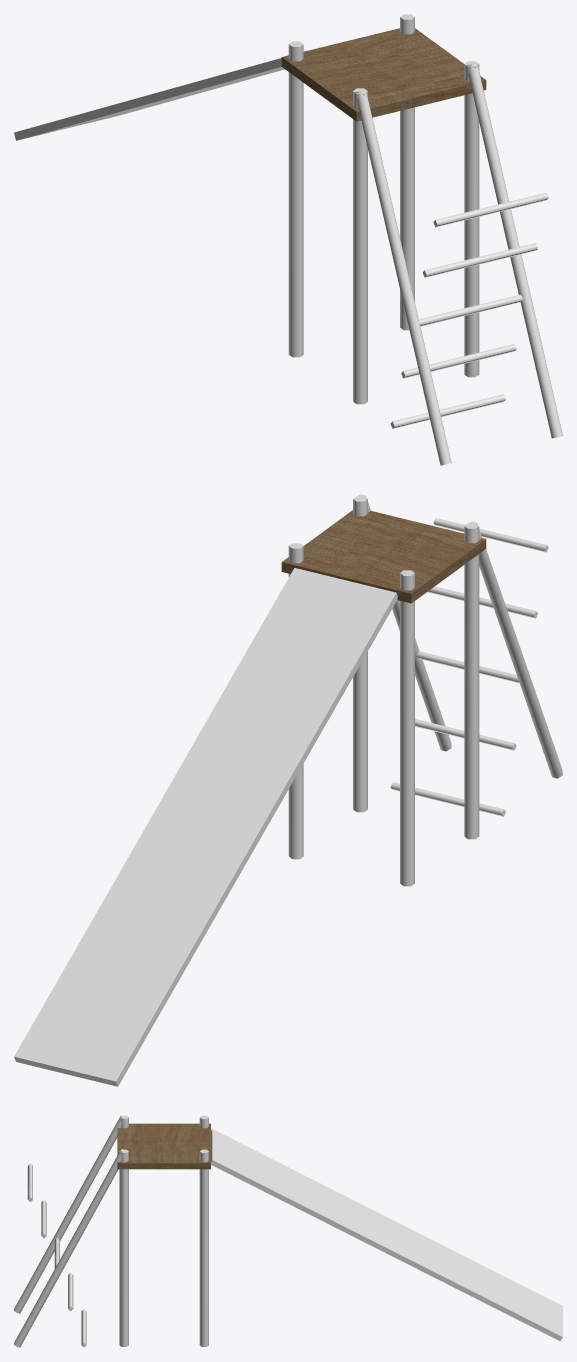
Rendered from S1U_Slide.fbx.
3 renders of one model, top to bottom at view 1: azimuth 30°, elevation 25°; view 2: azimuth 150°, elevation 25°; view 3: azimuth 270°, elevation 25°, orthographic. The views are drawn at different scales.
Visible parts, largest first — view 1: S1U_Slide; view 2: S1U_Slide; view 3: S1U_Slide.
Part boxes in pixels (box(x1,y1,x2,y2)): S1U_Slide: box(14, 14, 562, 465); S1U_Slide: box(14, 494, 562, 1086); S1U_Slide: box(14, 1115, 562, 1347).
Bounding box in the file's own units: 0.7 × 1.63 × 4.1.
